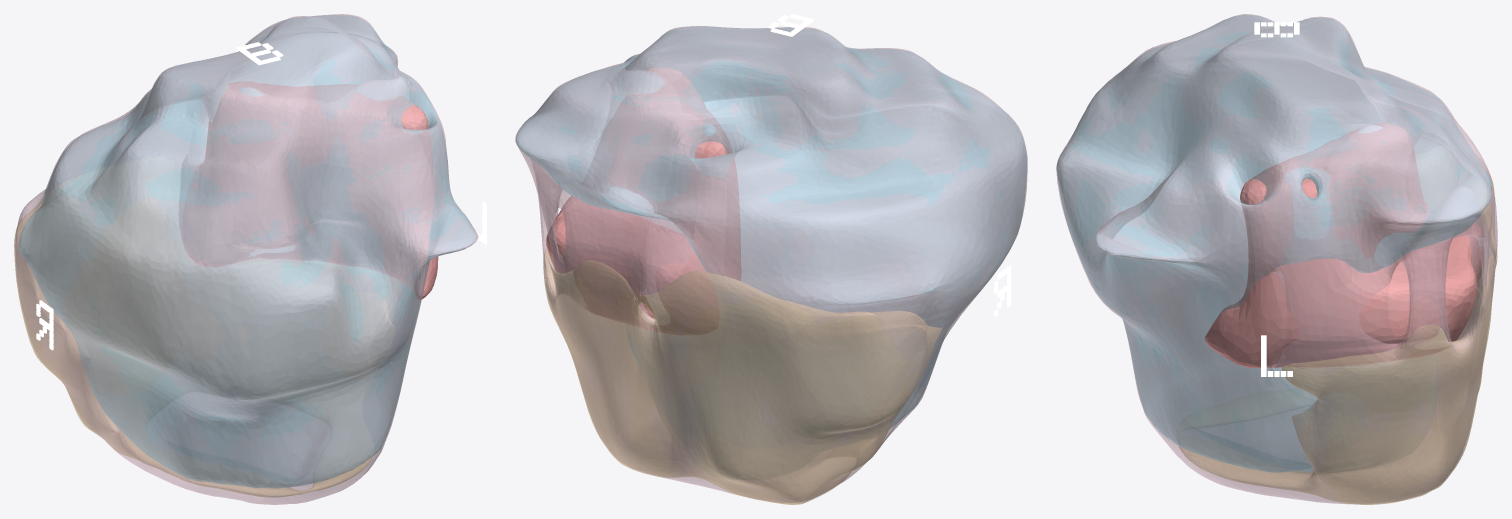
The picture shows the model from 3 angles, left to right: view 1: azimuth 30°, elevation 25°; view 2: azimuth 150°, elevation 25°; view 3: azimuth 270°, elevation 25°; orthographic projection. The views are drawn at different scales.
Visible parts, largest first — view 1: prostate_gland, transition_zone, lesion_01, peripheral_zone, pv_ar_marker_B; view 2: prostate_gland, transition_zone, peripheral_zone, lesion_01; view 3: prostate_gland, transition_zone, lesion_01, peripheral_zone.
Part boxes in pixels (left/top/right/bottom): prostate_gland: left=15, top=14, right=478, bottom=504; transition_zone: left=19, top=15, right=476, bottom=488; lesion_01: left=179, top=81, right=438, bottom=299; peripheral_zone: left=14, top=198, right=394, bottom=497; pv_ar_marker_B: left=236, top=42, right=283, bottom=65; prostate_gland: left=515, top=26, right=1027, bottom=502; transition_zone: left=516, top=26, right=1026, bottom=427; peripheral_zone: left=543, top=247, right=941, bottom=504; lesion_01: left=546, top=68, right=740, bottom=334; prostate_gland: left=1056, top=14, right=1497, bottom=504; transition_zone: left=1056, top=15, right=1491, bottom=472; lesion_01: left=1204, top=123, right=1484, bottom=367; peripheral_zone: left=1179, top=169, right=1497, bottom=504.
Size of the model in its own units: 0.0446 by 0.043 by 0.039.
